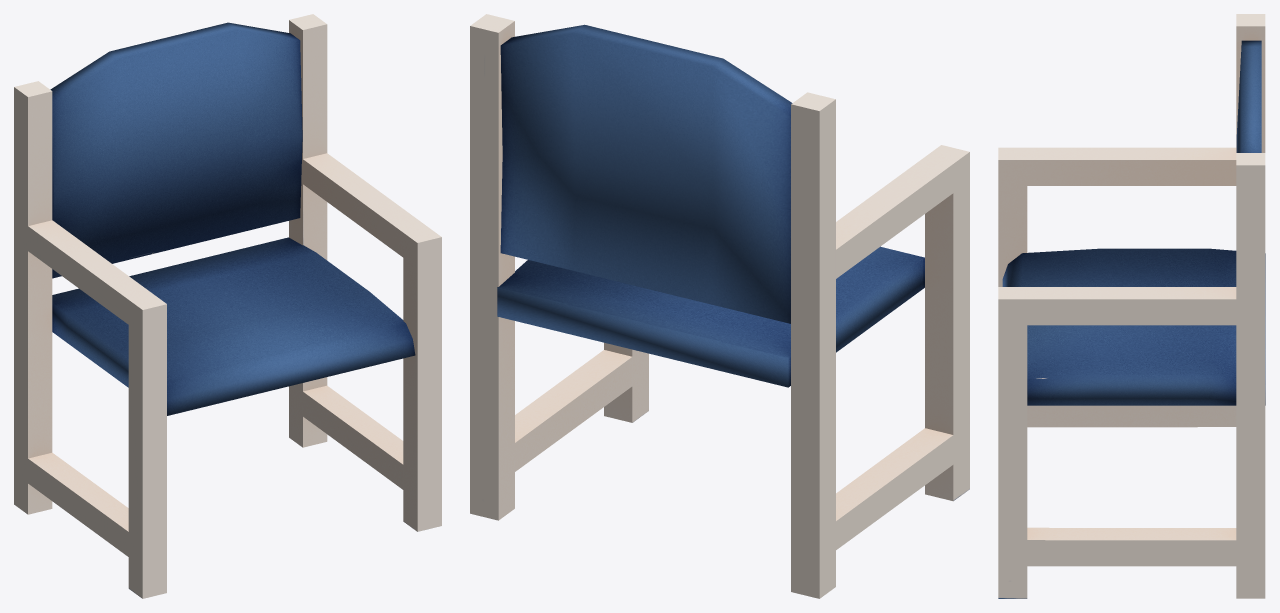
The model's file is mesh_chair.obj.
The picture shows the model from 3 angles, left to right: view 1: azimuth 30°, elevation 25°; view 2: azimuth 150°, elevation 25°; view 3: azimuth 270°, elevation 25°; orthographic projection. The views are drawn at different scales.
Visible parts, largest first — view 1: Cube; view 2: Cube; view 3: Cube.
Part boxes in pixels (x1,y1,x2,y2): Cube: (14,14,441,598); Cube: (470,14,969,598); Cube: (998,14,1265,598).
Size of the model in its own units: 2.52 by 3.47 by 1.88.
Materials: 1 (1 with a texture image).
